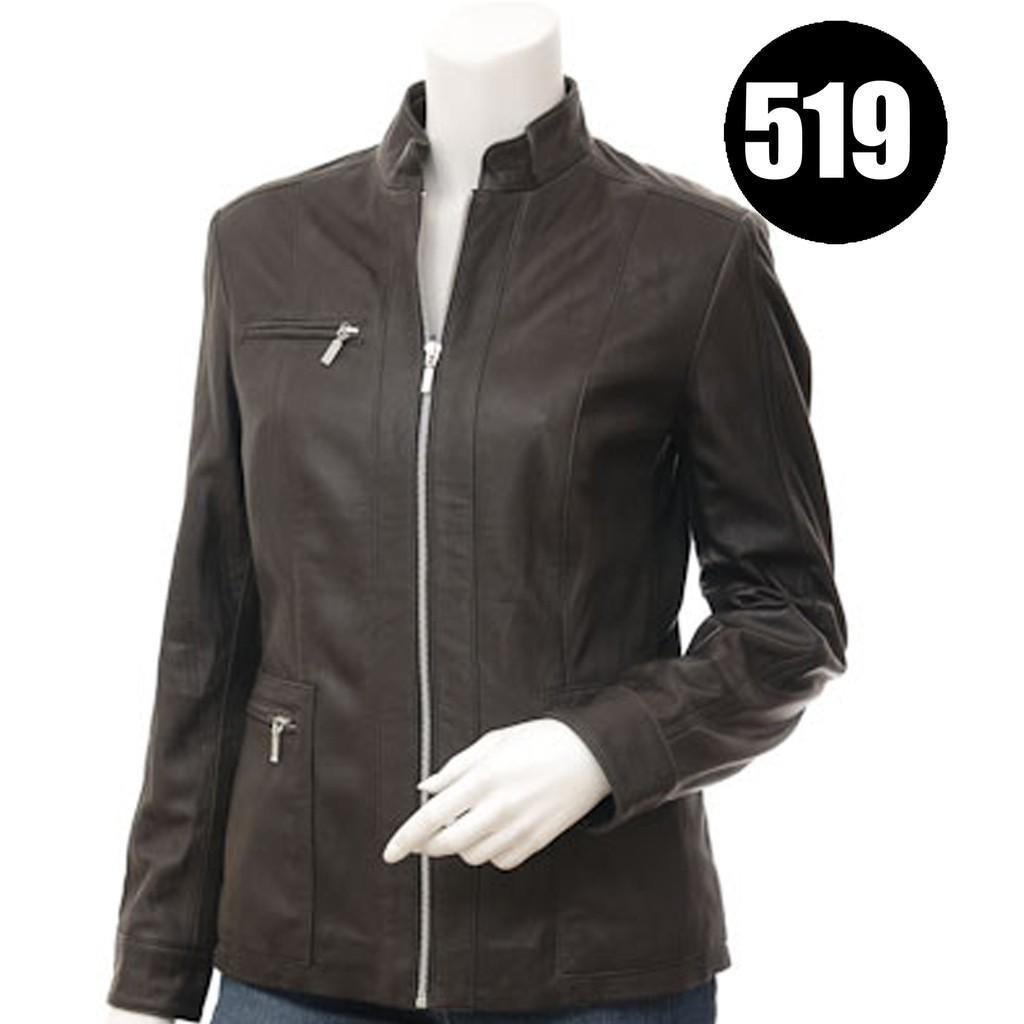jacket: (108, 84, 838, 1005)
